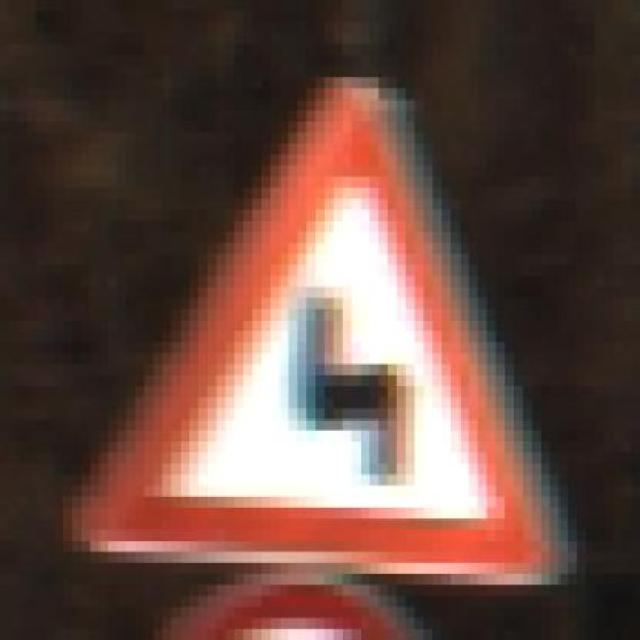Left Zig Zag Traffic: (45, 66, 577, 585)
